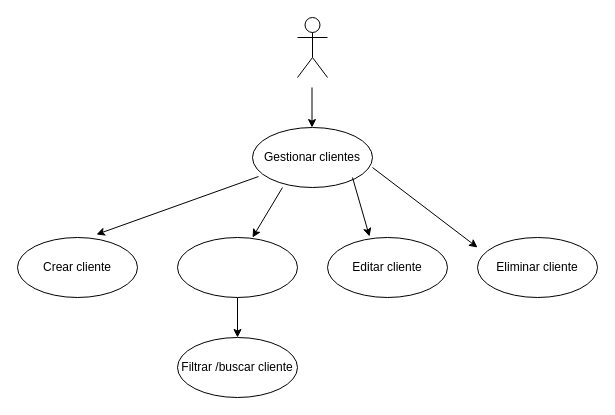
The diagram is 615 pixels wide and 415 high, and some of its shapes have lost their labels. Here are the shapes that lost their labels. From the top down, the centre of each, then its label:
At point 312,47: "USUARIO".
At point 237,267: "Consultar cliente".
